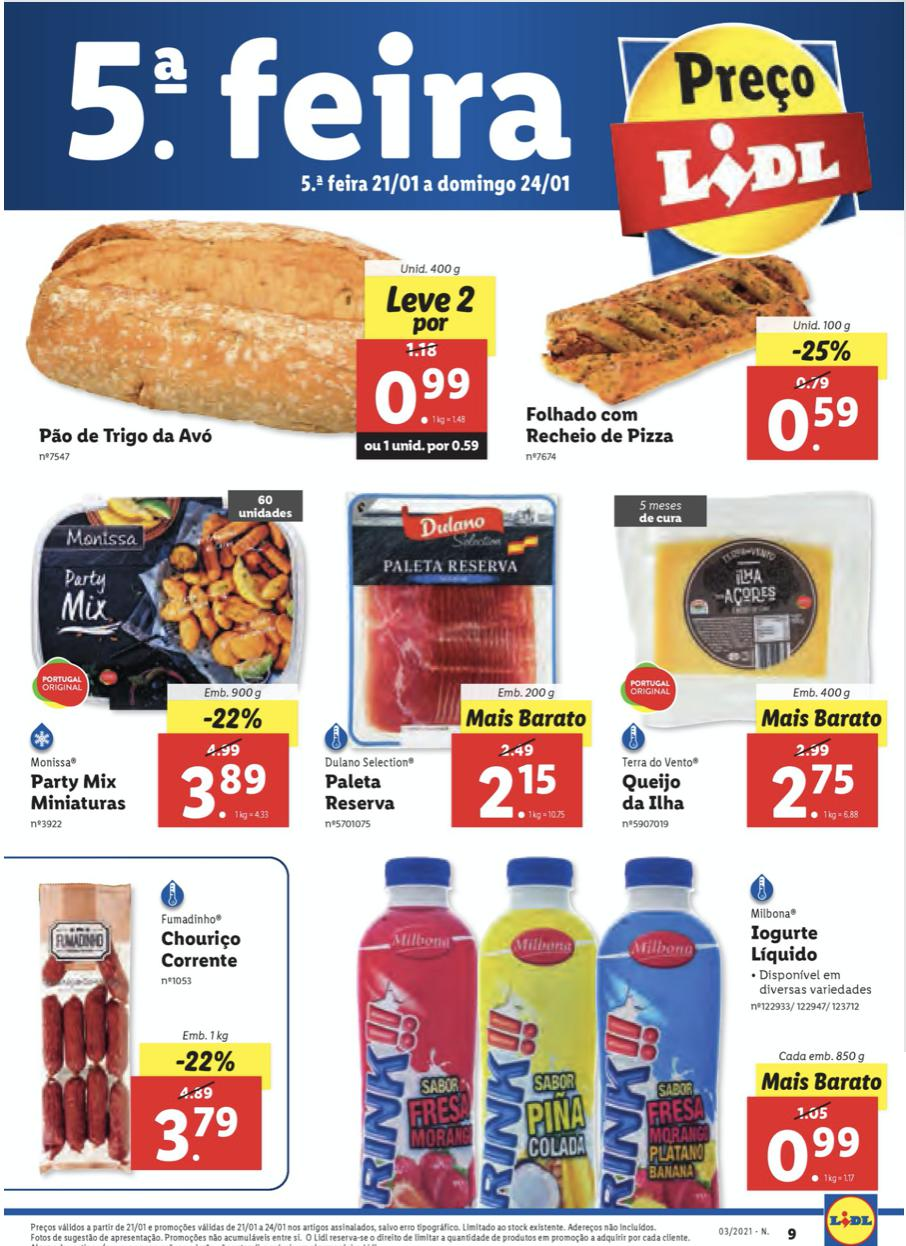name: (521, 399, 684, 444), (153, 921, 250, 976), (27, 768, 133, 813), (25, 424, 221, 448), (317, 768, 397, 818), (745, 922, 824, 967), (621, 771, 696, 814)
price: (164, 762, 285, 830), (759, 1119, 871, 1190), (373, 359, 477, 428), (768, 758, 871, 824), (144, 1101, 241, 1171), (470, 761, 576, 825), (771, 394, 859, 459)
product: (311, 862, 891, 1202), (16, 214, 511, 471), (7, 488, 319, 841), (508, 210, 891, 473), (605, 473, 891, 822), (319, 488, 605, 822), (13, 867, 271, 1181)
promotion: (171, 1045, 244, 1081), (199, 698, 265, 733), (788, 338, 854, 364)
